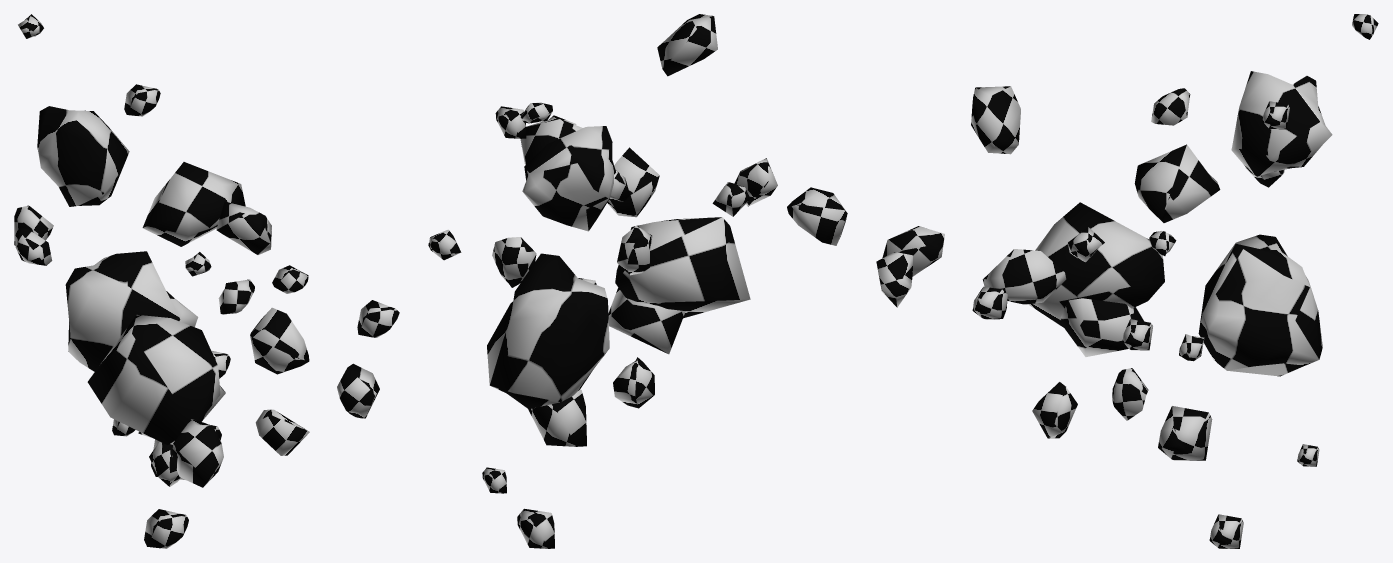
Rendered from zone_asteroid_low5.obj.
The picture shows the model from 3 angles, left to right: view 1: azimuth 30°, elevation 25°; view 2: azimuth 150°, elevation 25°; view 3: azimuth 270°, elevation 25°; orthographic projection. The views are drawn at different scales.
Parts seen in each view (by area): view 1: low_asteroida; view 2: low_asteroida; view 3: low_asteroida.
Boxes of the visible parts, x1=… form: low_asteroida: x1=14, y1=14, x2=399, y2=548; low_asteroida: x1=428, y1=14, x2=847, y2=548; low_asteroida: x1=876, y1=14, x2=1378, y2=548.
Bounding box in the file's own units: 178 × 276 × 250.
Materials: 1 (1 with a texture image).
